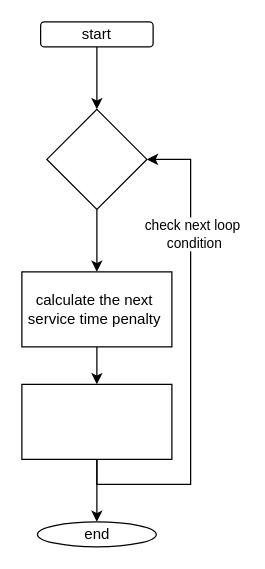
Image size: 265x569. Some labels were removed from this diagram. The box of each missing label's shape, as (x1, y1, x2, y2) in pixels:
Increase the threshold count and calculate the service time: (21, 383, 172, 459)
WHILE truck hp < penalty hp: (46, 108, 147, 209)
